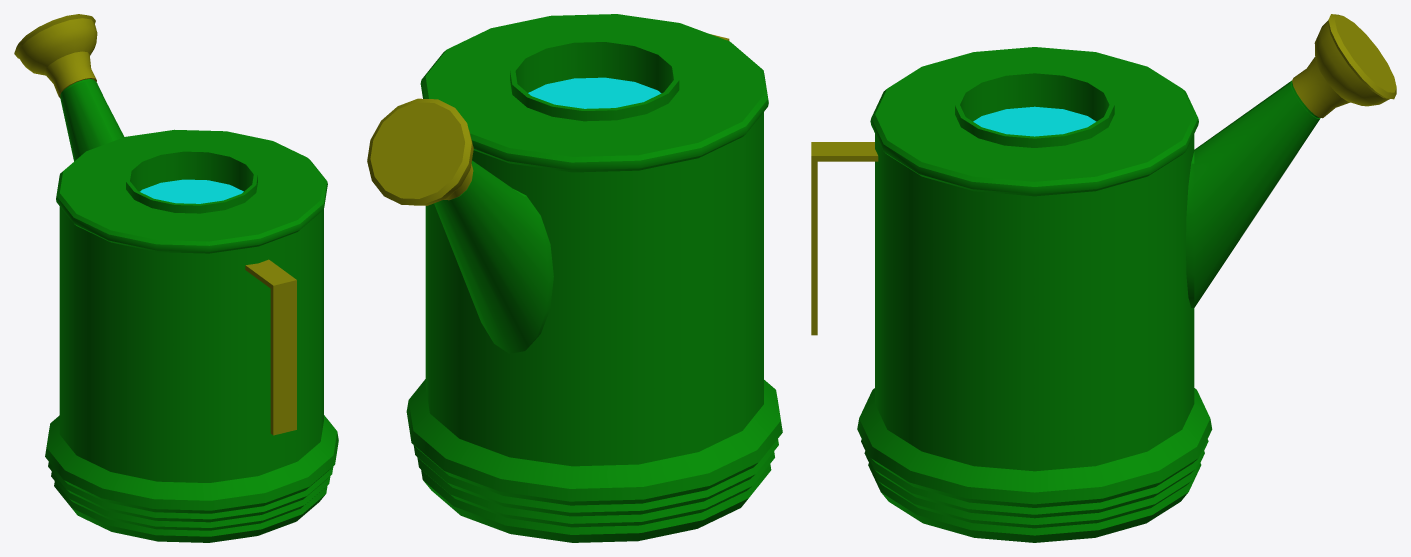
Rendered from watercan.fbx.
3 renders of one model, left to right at view 1: azimuth 30°, elevation 25°; view 2: azimuth 150°, elevation 25°; view 3: azimuth 270°, elevation 25°, orthographic. The views are drawn at different scales.
Visible parts, largest first — view 1: Cylinder; view 2: Cylinder; view 3: Cylinder.
Boxes of the visible parts, <box> form: Cylinder: <box>14,14,338,542</box>; Cylinder: <box>367,14,782,542</box>; Cylinder: <box>811,14,1396,542</box>.
Size of the model in its own units: 222 by 315 by 367.
